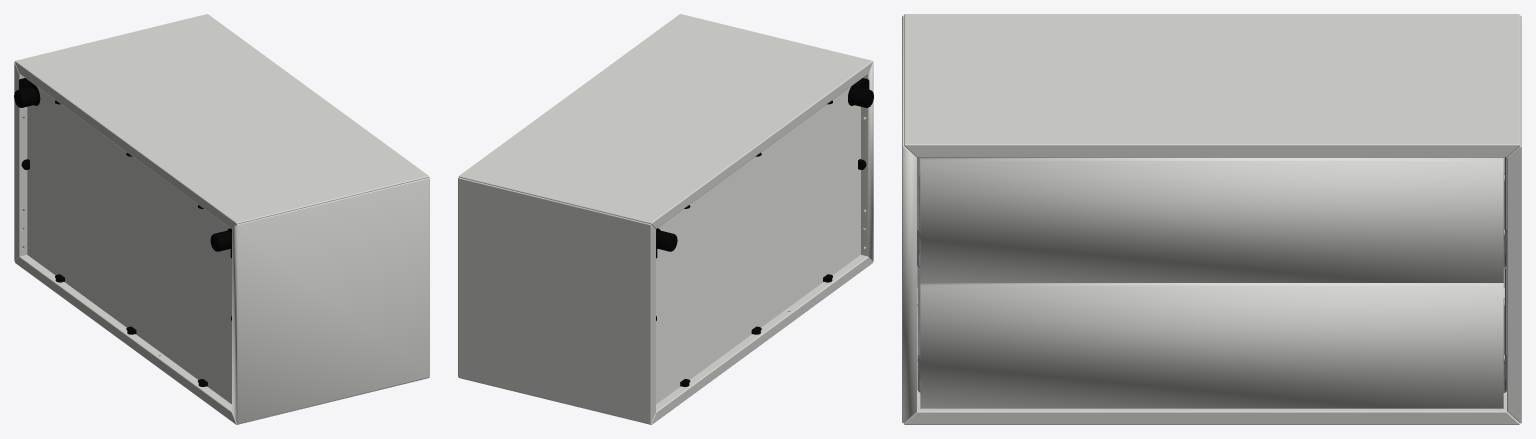
The model's file is EKET.glb.
3 views of the same model, side by side, from view 1: azimuth 30°, elevation 25°; view 2: azimuth 150°, elevation 25°; view 3: azimuth 270°, elevation 25° (orthographic). The views are drawn at different scales.
Visible parts, largest first — view 1: cabinet_topPanel, cabinet_sidePanelL, cabinet_backPanel, cabinet_bottomPanel, cabinet_sidePanelR, cabinet_suspKnob_2; view 2: cabinet_topPanel, cabinet_sidePanelR, cabinet_backPanel, cabinet_bottomPanel, cabinet_sidePanelL, cabinet_suspKnob_1; view 3: cabinet_topPanel, drawerA_drawerFront_1, drawerB_drawerFront_2, cabinet_bottomPanel, cabinet_sidePanelL, cabinet_sidePanelR.
Part boxes in pixels (<box>): cabinet_topPanel: <box>15,14,429,228</box>; cabinet_sidePanelL: <box>232,177,429,424</box>; cabinet_backPanel: <box>27,86,231,404</box>; cabinet_bottomPanel: <box>15,255,429,424</box>; cabinet_sidePanelR: <box>14,61,27,261</box>; cabinet_suspKnob_2: <box>14,87,36,107</box>; cabinet_topPanel: <box>458,14,873,228</box>; cabinet_sidePanelR: <box>458,177,655,424</box>; cabinet_backPanel: <box>656,87,860,404</box>; cabinet_bottomPanel: <box>459,255,873,424</box>; cabinet_sidePanelL: <box>861,62,873,261</box>; cabinet_suspKnob_1: <box>851,87,873,107</box>; cabinet_topPanel: <box>904,14,1519,157</box>; drawerA_drawerFront_1: <box>920,157,1503,282</box>; drawerB_drawerFront_2: <box>920,283,1503,408</box>; cabinet_bottomPanel: <box>904,287,1519,424</box>; cabinet_sidePanelL: <box>902,15,916,423</box>; cabinet_sidePanelR: <box>1507,15,1521,423</box>.
Size of the model in its own units: 0.367 by 0.35 by 0.7.
Materials: 19 (5 with a texture image).
